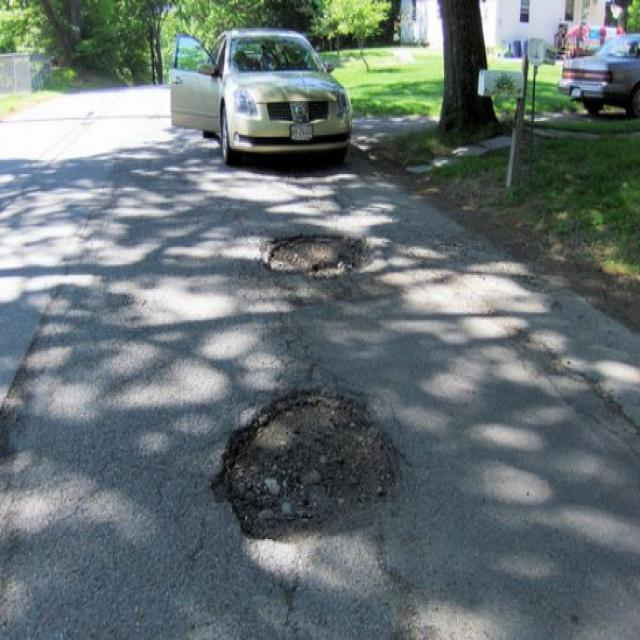pothole: (206, 382, 413, 544), (262, 225, 376, 283)
